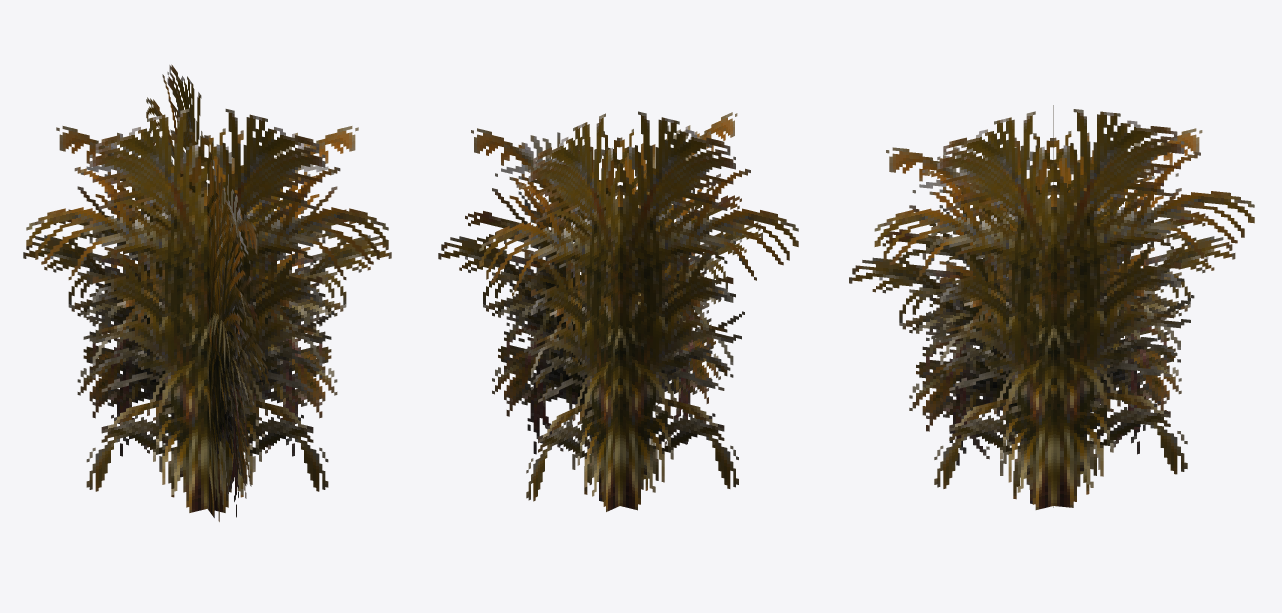
The model's file is plant.glb.
3 views of the same model, side by side, from view 1: azimuth 30°, elevation 25°; view 2: azimuth 150°, elevation 25°; view 3: azimuth 270°, elevation 25° (orthographic).
Visible parts, largest first — view 1: Plant; view 2: Plant; view 3: Plant.
Boxes of the visible parts, x1,y1,x2,y2 form: Plant: (23, 64, 391, 521); Plant: (438, 111, 798, 511); Plant: (849, 105, 1254, 509).
Size of the model in its own units: 1 by 1 by 0.9744.
Materials: 1 (1 with a texture image).
